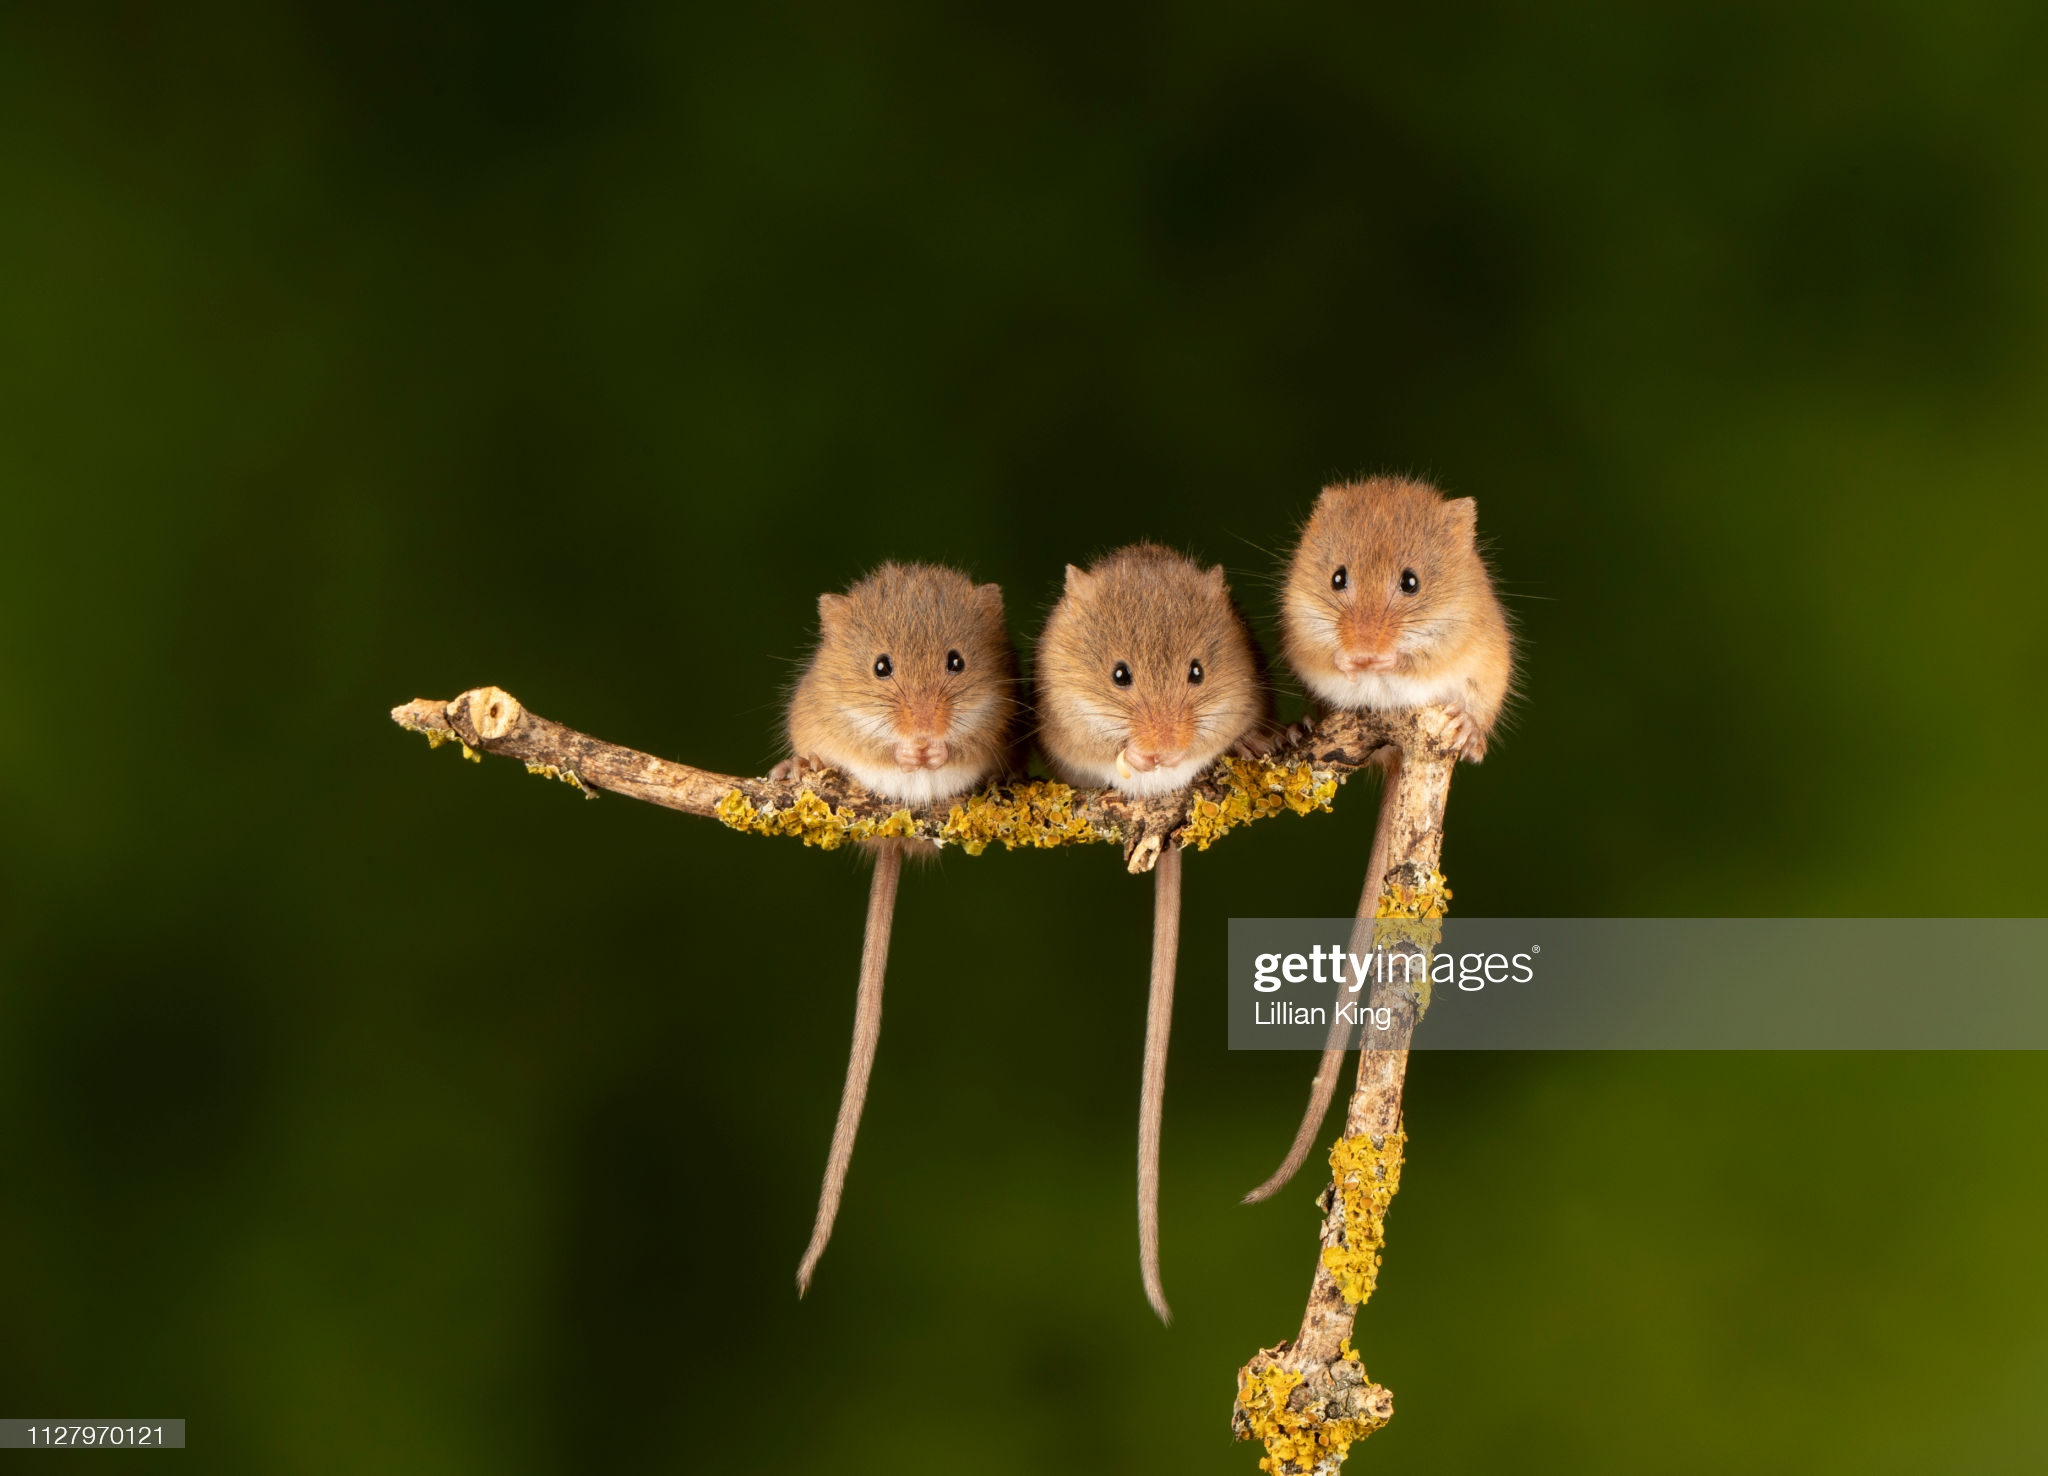mouse: (749, 525, 1022, 892), (1266, 444, 1533, 803), (1037, 498, 1247, 845)
